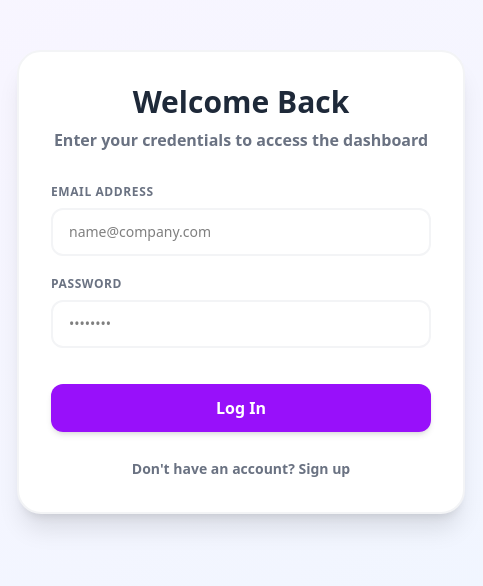
it: Login Component Test Suite › [UI-06] Safely catches and displays Firebase Authentication errors
This screenshot has width=483, height=586.
Type "wrong@test.com" into the field labelled "Email Address".
click(241, 232); type("wrong@test.com")  # box 51,208 -> 431,256
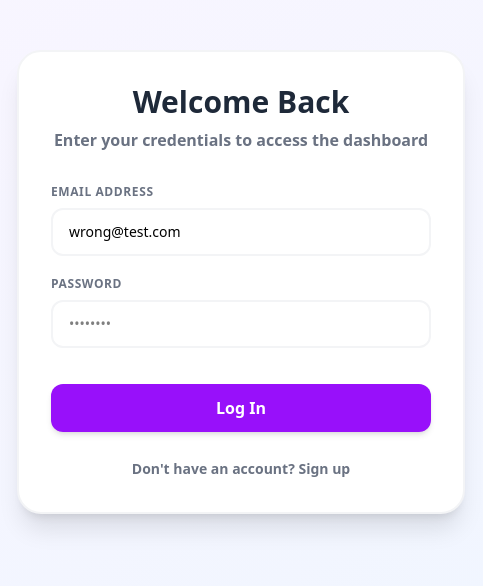
Type "wrongpass" into the password field labelled "Password".
click(241, 324); type("wrongpass")  # box 51,300 -> 431,348
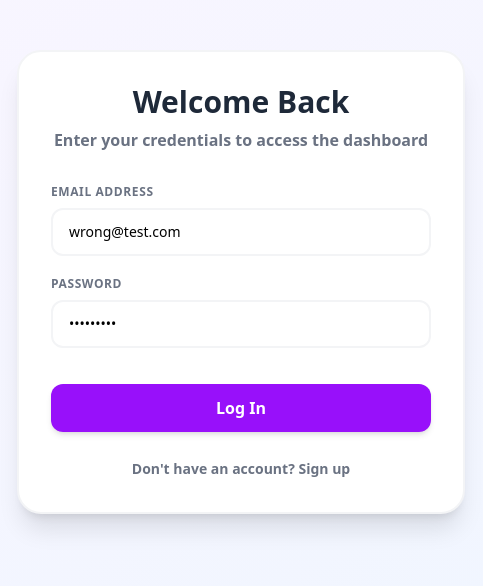
Click the button "Log In".
click(241, 408)  # box 51,384 -> 431,432
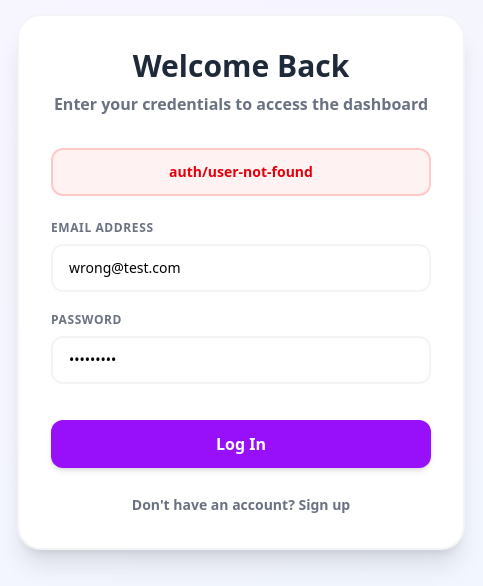
Check: the text "auth/user-not-found" is shown, box 51,148 -> 431,196
